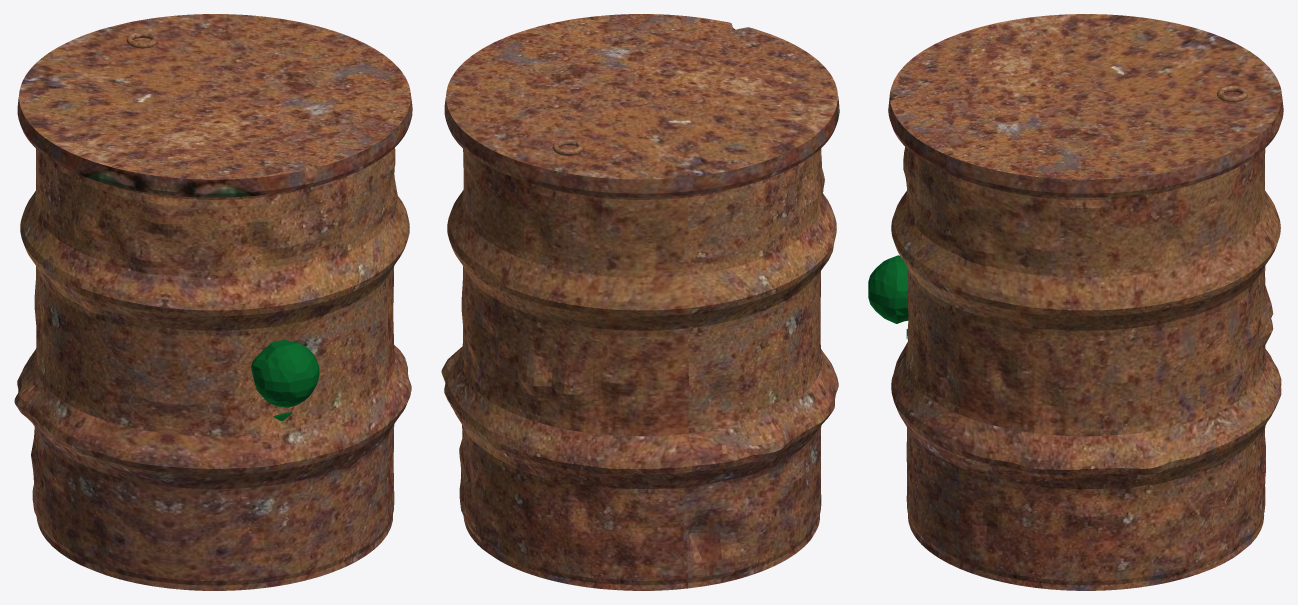
Rendered from bidon_seul.fbx.
3 renders of one model, left to right at view 1: azimuth 30°, elevation 25°; view 2: azimuth 150°, elevation 25°; view 3: azimuth 270°, elevation 25°, orthographic.
Visible parts, largest first — view 1: Circle, Cube; view 2: Circle; view 3: Circle, Cube.
Boxes of the visible parts, x1=… form: Circle: x1=14, y1=14, x2=412, y2=590; Cube: x1=251, y1=339, x2=319, y2=420; Circle: x1=441, y1=14, x2=839, y2=590; Circle: x1=888, y1=14, x2=1283, y2=590; Cube: x1=868, y1=255, x2=908, y2=339.
Size of the model in its own units: 243 by 287 by 255.
